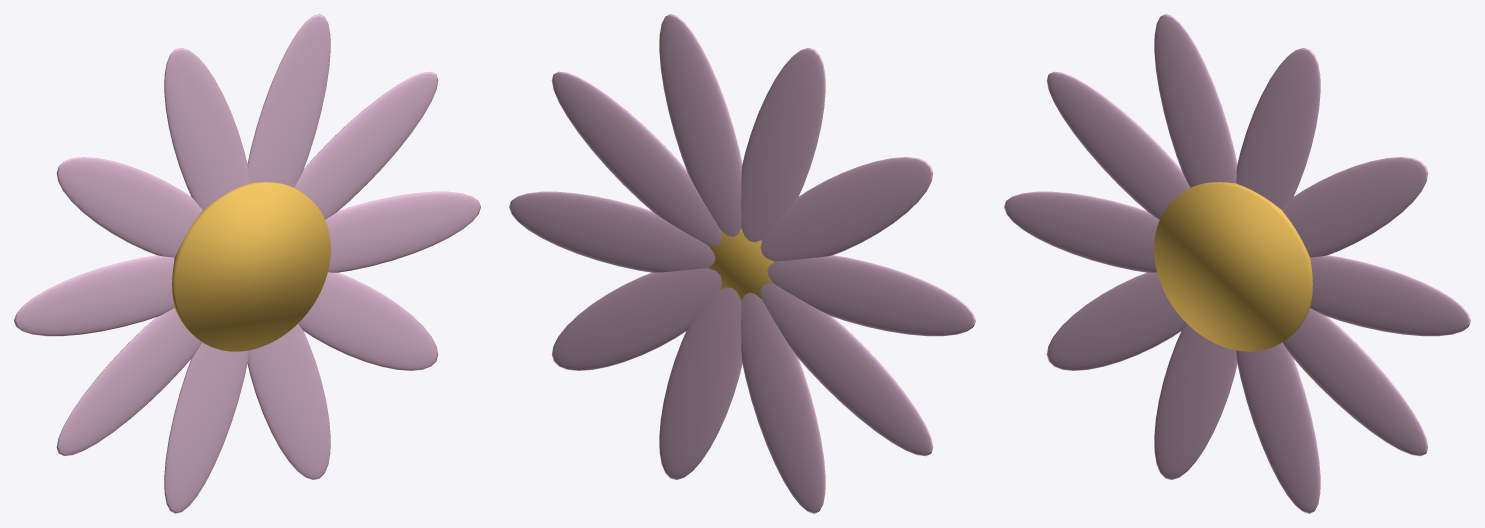
File: whiteFlower.glb
3 renders of one model, left to right at view 1: azimuth 30°, elevation 25°; view 2: azimuth 150°, elevation 25°; view 3: azimuth 330°, elevation 25°, orthographic.
Parts seen in each view (by area): view 1: Flower_Center.002, Petal_1.005, Petal_2.005, Petal_0.005, Petal_3.005, Petal_9.004, Petal_4.005, Petal_8.004, Petal_5.005, Petal_7.004, Petal_6.004; view 2: Petal_1.005, Petal_2.005, Petal_0.005, Petal_3.005, Petal_9.004, Petal_4.005, Petal_8.004, Petal_5.005, Petal_7.004, Petal_6.004, Flower_Center.002; view 3: Flower_Center.002, Petal_4.005, Petal_3.005, Petal_5.005, Petal_2.005, Petal_6.004, Petal_1.005, Petal_7.004, Petal_0.005, Petal_8.004, Petal_9.004.
Boxes of the visible parts, bbox=[...] form: Flower_Center.002: bbox=[172, 182, 330, 351]; Petal_1.005: bbox=[56, 157, 202, 257]; Petal_2.005: bbox=[164, 47, 248, 209]; Petal_0.005: bbox=[14, 255, 174, 336]; Petal_3.005: bbox=[247, 14, 330, 187]; Petal_9.004: bbox=[56, 308, 202, 456]; Petal_4.005: bbox=[294, 71, 438, 219]; Petal_8.004: bbox=[164, 342, 248, 513]; Petal_5.005: bbox=[325, 191, 480, 272]; Petal_7.004: bbox=[247, 324, 330, 480]; Petal_6.004: bbox=[298, 272, 438, 370]; Petal_1.005: bbox=[760, 157, 933, 261]; Petal_2.005: bbox=[741, 47, 825, 242]; Petal_0.005: bbox=[767, 255, 975, 336]; Petal_3.005: bbox=[659, 14, 742, 236]; Petal_9.004: bbox=[760, 283, 933, 456]; Petal_4.005: bbox=[551, 71, 721, 245]; Petal_8.004: bbox=[741, 292, 825, 513]; Petal_5.005: bbox=[509, 191, 715, 272]; Petal_7.004: bbox=[659, 287, 742, 480]; Petal_6.004: bbox=[551, 268, 721, 370]; Flower_Center.002: bbox=[708, 228, 774, 300]; Flower_Center.002: bbox=[1154, 182, 1312, 351]; Petal_4.005: bbox=[1282, 157, 1428, 257]; Petal_3.005: bbox=[1236, 47, 1320, 209]; Petal_5.005: bbox=[1310, 255, 1470, 336]; Petal_2.005: bbox=[1154, 14, 1237, 187]; Petal_6.004: bbox=[1282, 308, 1428, 456]; Petal_1.005: bbox=[1046, 71, 1190, 219]; Petal_7.004: bbox=[1236, 342, 1320, 513]; Petal_0.005: bbox=[1004, 191, 1159, 272]; Petal_8.004: bbox=[1154, 324, 1237, 480]; Petal_9.004: bbox=[1046, 272, 1186, 370].
Bounding box in the file's own units: 6 × 5.71 × 0.185.
